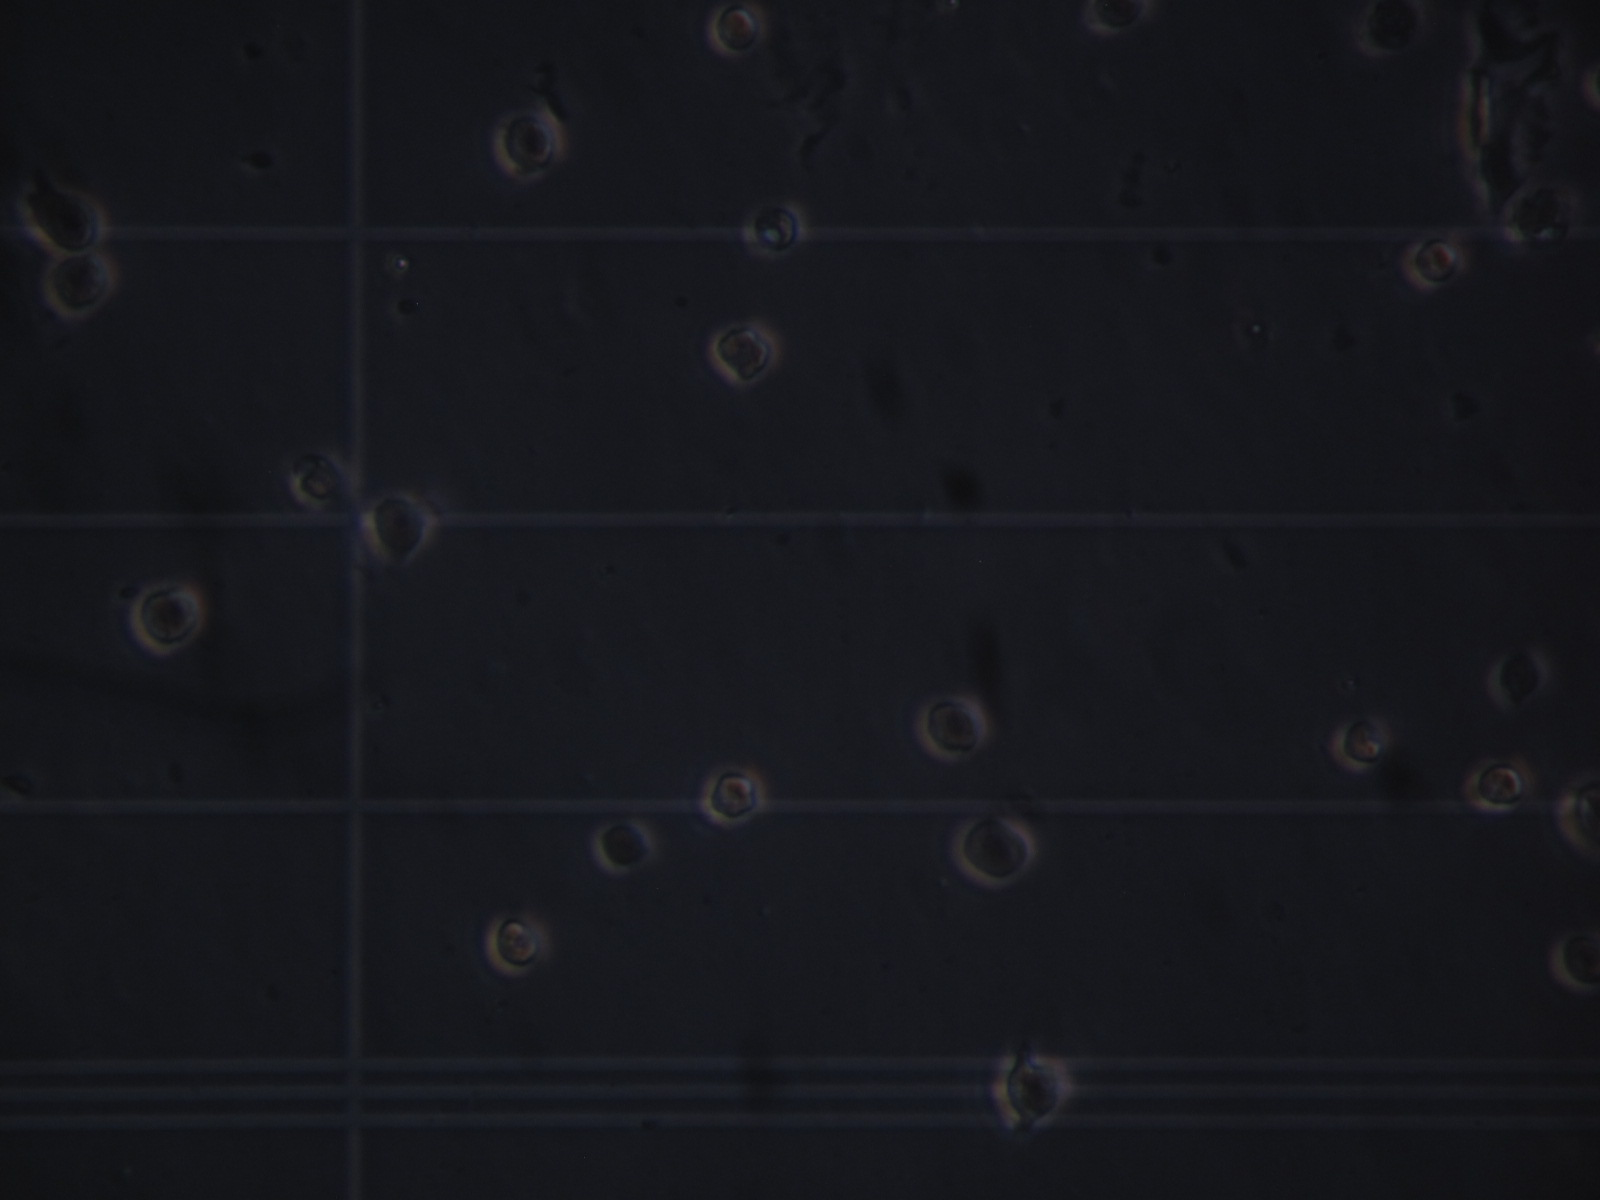hemo: (20, 171, 110, 258), (122, 577, 207, 661), (354, 487, 437, 570), (950, 812, 1036, 889), (493, 106, 567, 185), (913, 695, 988, 765), (707, 321, 784, 388), (995, 1051, 1060, 1129), (44, 250, 116, 319), (1464, 753, 1537, 818), (699, 764, 766, 831), (1327, 712, 1395, 776), (483, 913, 552, 976), (1351, 1, 1425, 59), (590, 816, 658, 879), (1485, 649, 1548, 715), (741, 197, 808, 258), (1555, 769, 1600, 858), (1401, 232, 1468, 291), (291, 450, 350, 508), (706, 3, 767, 58), (1550, 930, 1600, 989), (1082, 1, 1153, 37)
